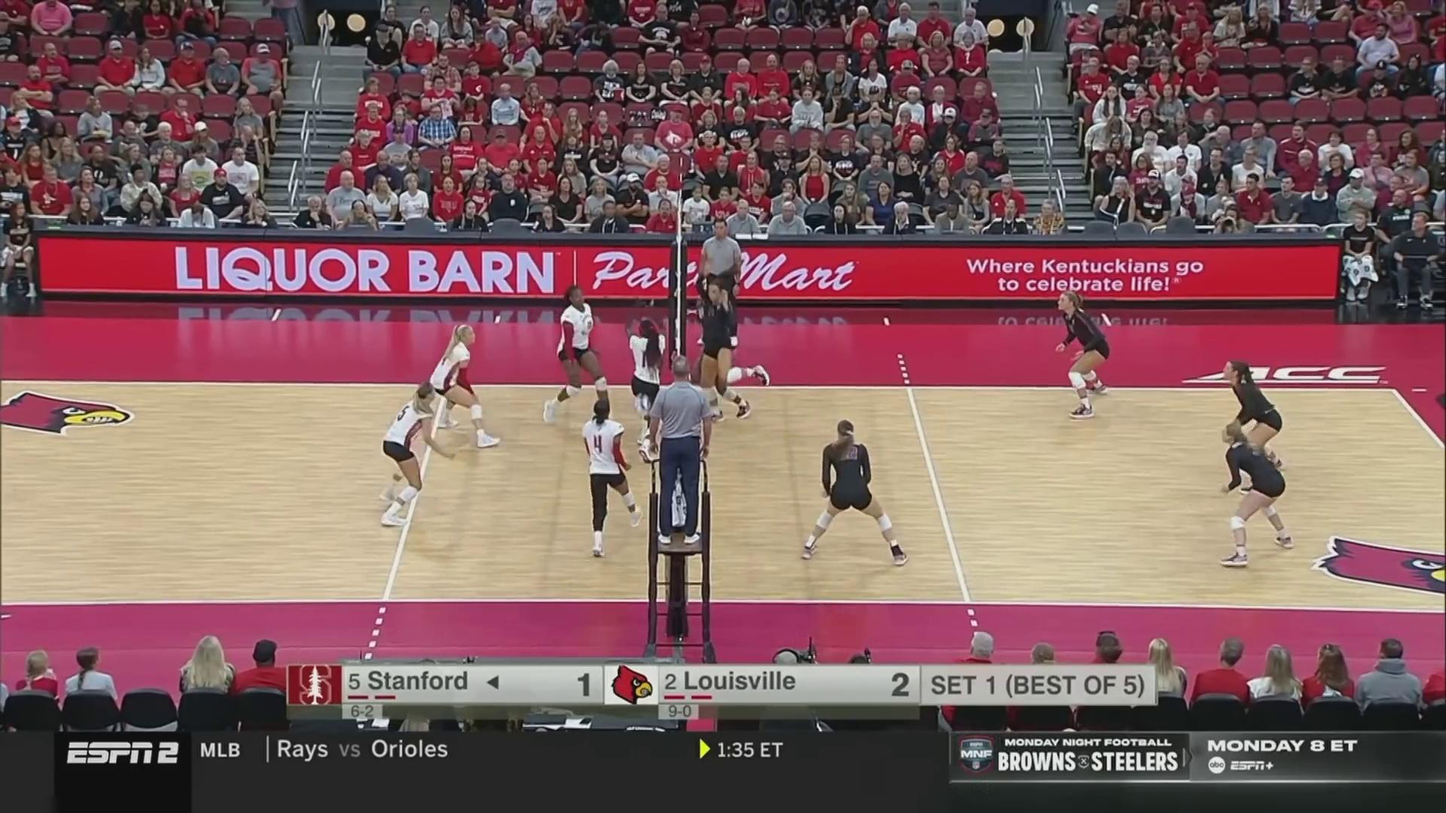player: (800, 421, 909, 562), (1221, 420, 1295, 570), (700, 276, 776, 419), (387, 382, 456, 528), (430, 323, 508, 449), (1221, 358, 1293, 493), (582, 401, 645, 551), (693, 272, 753, 421), (548, 290, 611, 424), (1057, 295, 1119, 423), (624, 308, 669, 454)
refree: (647, 357, 714, 541), (698, 219, 741, 346)
